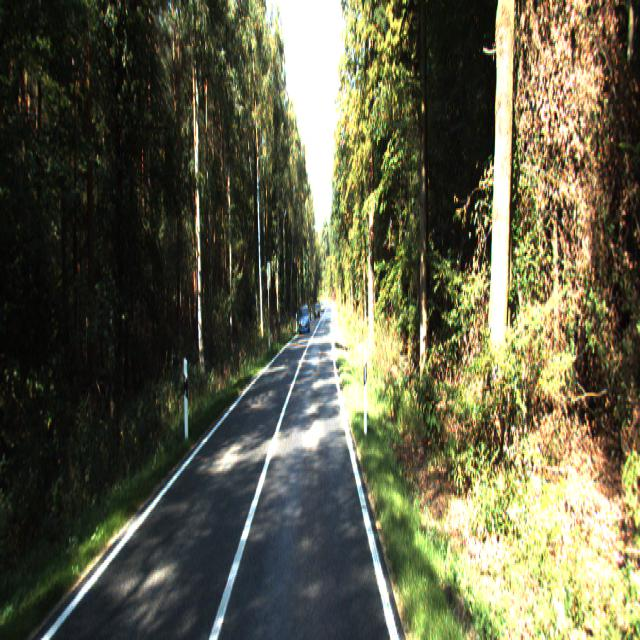Car: (299, 305, 310, 335)
